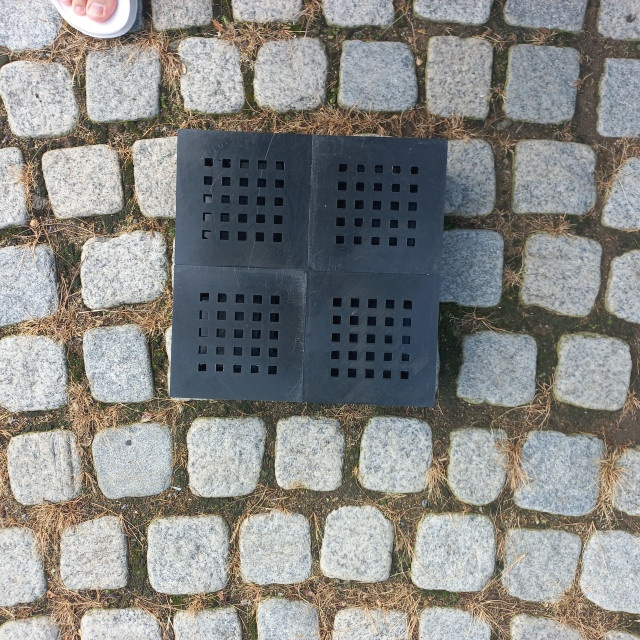pallet: (166, 132, 450, 408)
